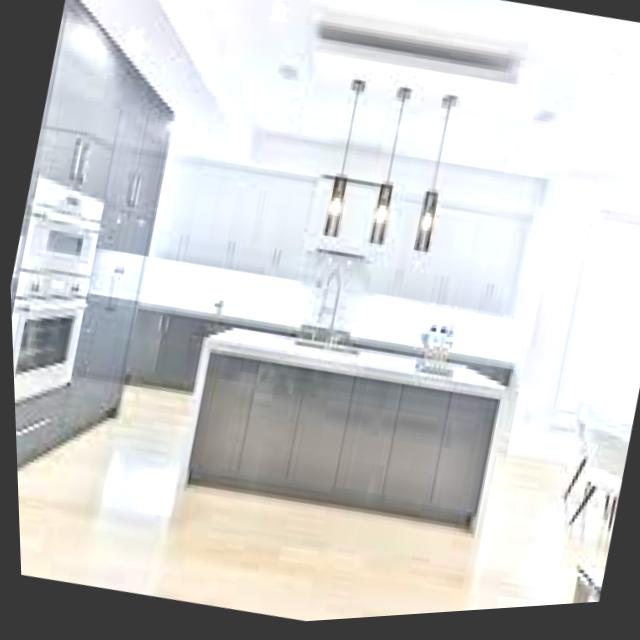noobs: (14, 384, 595, 625)
obs: (8, 0, 175, 473), (175, 329, 506, 545), (557, 408, 628, 545), (563, 567, 599, 611)
